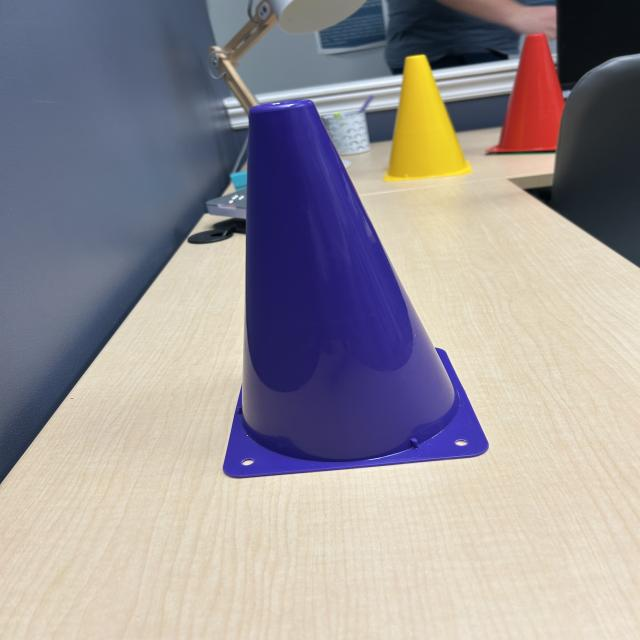orange cone: (487, 32, 570, 166)
purple cone: (220, 98, 498, 475)
yellow cone: (381, 56, 479, 182)
